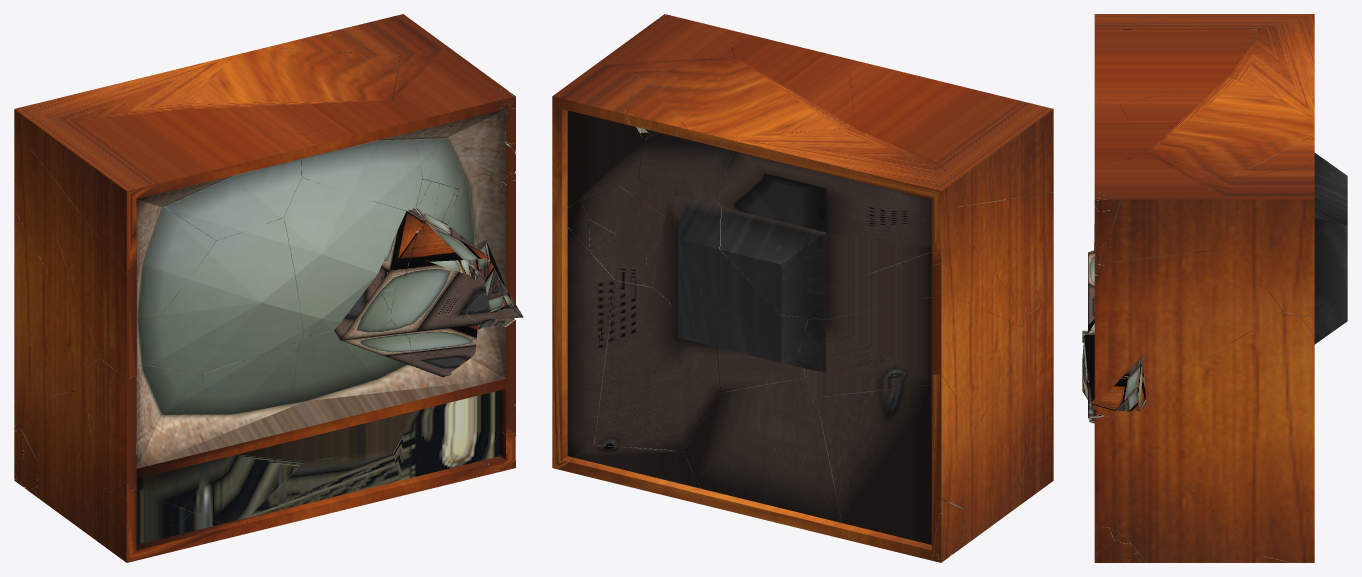
3 renders of one model, left to right at view 1: azimuth 30°, elevation 25°; view 2: azimuth 150°, elevation 25°; view 3: azimuth 270°, elevation 25°, orthographic. The views are drawn at different scales.
Visible parts, largest first — view 1: TV01_cell.032, TV01_cell, TV01_cell.028, TV01_cell.037, TV01_cell.033, TV01_cell.009, TV01_cell.035, TV01_cell.005, TV01_cell.029, TV01_cell.007, TV01_cell.034, TV01_cell.038 (+20 smaller); view 2: TV01_cell.040, TV01_cell.045, TV01_cell.030, TV01_cell.033, TV01_cell.015, TV01_cell.004, TV01_cell.016, TV01_cell.041, TV01_cell.019, TV01_cell.032, TV01_cell.046, TV01_cell.038 (+14 smaller); view 3: TV01_cell.041, TV01_cell.025, TV01_cell.033, TV01_cell.035, TV01_cell.007, TV01_cell.019, TV01_cell.032, TV01_cell.040, TV01_cell.016, TV01_cell.038, TV01_cell.034, TV01_cell.042_cell.014 (+5 smaller).
Boxes of the visible parts, x1,y1,x2,y2 form: TV01_cell.032: (76, 109, 314, 240); TV01_cell: (84, 359, 242, 526); TV01_cell.028: (136, 217, 303, 373); TV01_cell.037: (28, 147, 215, 379); TV01_cell.033: (188, 47, 400, 134); TV01_cell.009: (290, 330, 428, 461); TV01_cell.035: (388, 317, 515, 493); TV01_cell.005: (202, 341, 309, 526); TV01_cell.029: (284, 177, 406, 336); TV01_cell.007: (392, 48, 506, 189); TV01_cell.034: (301, 100, 454, 210); TV01_cell.038: (29, 119, 161, 273); TV01_cell.040: (716, 127, 956, 317); TV01_cell.045: (816, 374, 975, 560); TV01_cell.030: (795, 291, 1021, 427); TV01_cell.033: (638, 57, 855, 200); TV01_cell.015: (683, 377, 841, 536); TV01_cell.004: (594, 280, 720, 450); TV01_cell.016: (653, 194, 808, 365); TV01_cell.041: (552, 227, 615, 469); TV01_cell.019: (552, 62, 643, 212); TV01_cell.032: (849, 63, 1020, 162); TV01_cell.046: (808, 223, 1026, 326); TV01_cell.038: (936, 101, 1053, 207); TV01_cell.041: (1110, 282, 1314, 562); TV01_cell.025: (1094, 247, 1282, 416); TV01_cell.033: (1120, 76, 1314, 273); TV01_cell.035: (1094, 416, 1262, 562); TV01_cell.007: (1094, 153, 1244, 263); TV01_cell.019: (1224, 165, 1314, 316); TV01_cell.032: (1094, 29, 1258, 105); TV01_cell.040: (1229, 14, 1347, 205); TV01_cell.016: (1314, 197, 1347, 336); TV01_cell.038: (1094, 14, 1285, 29); TV01_cell.034: (1094, 103, 1146, 169); TV01_cell.042_cell.014: (1082, 333, 1146, 411).
Bounding box in the file's own units: 409 × 364 × 241.
